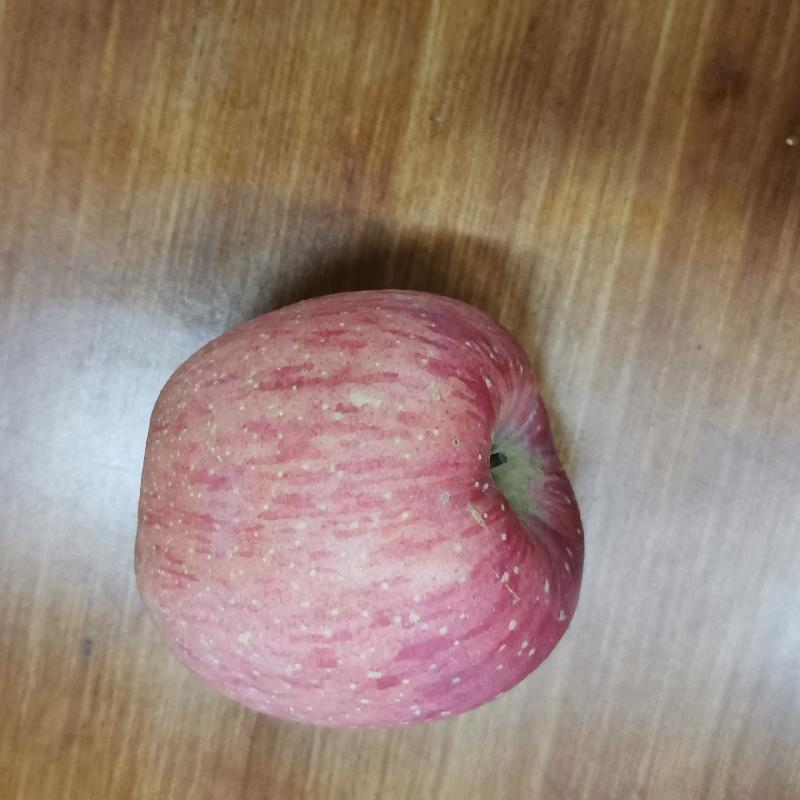apples: (127, 285, 595, 724)
